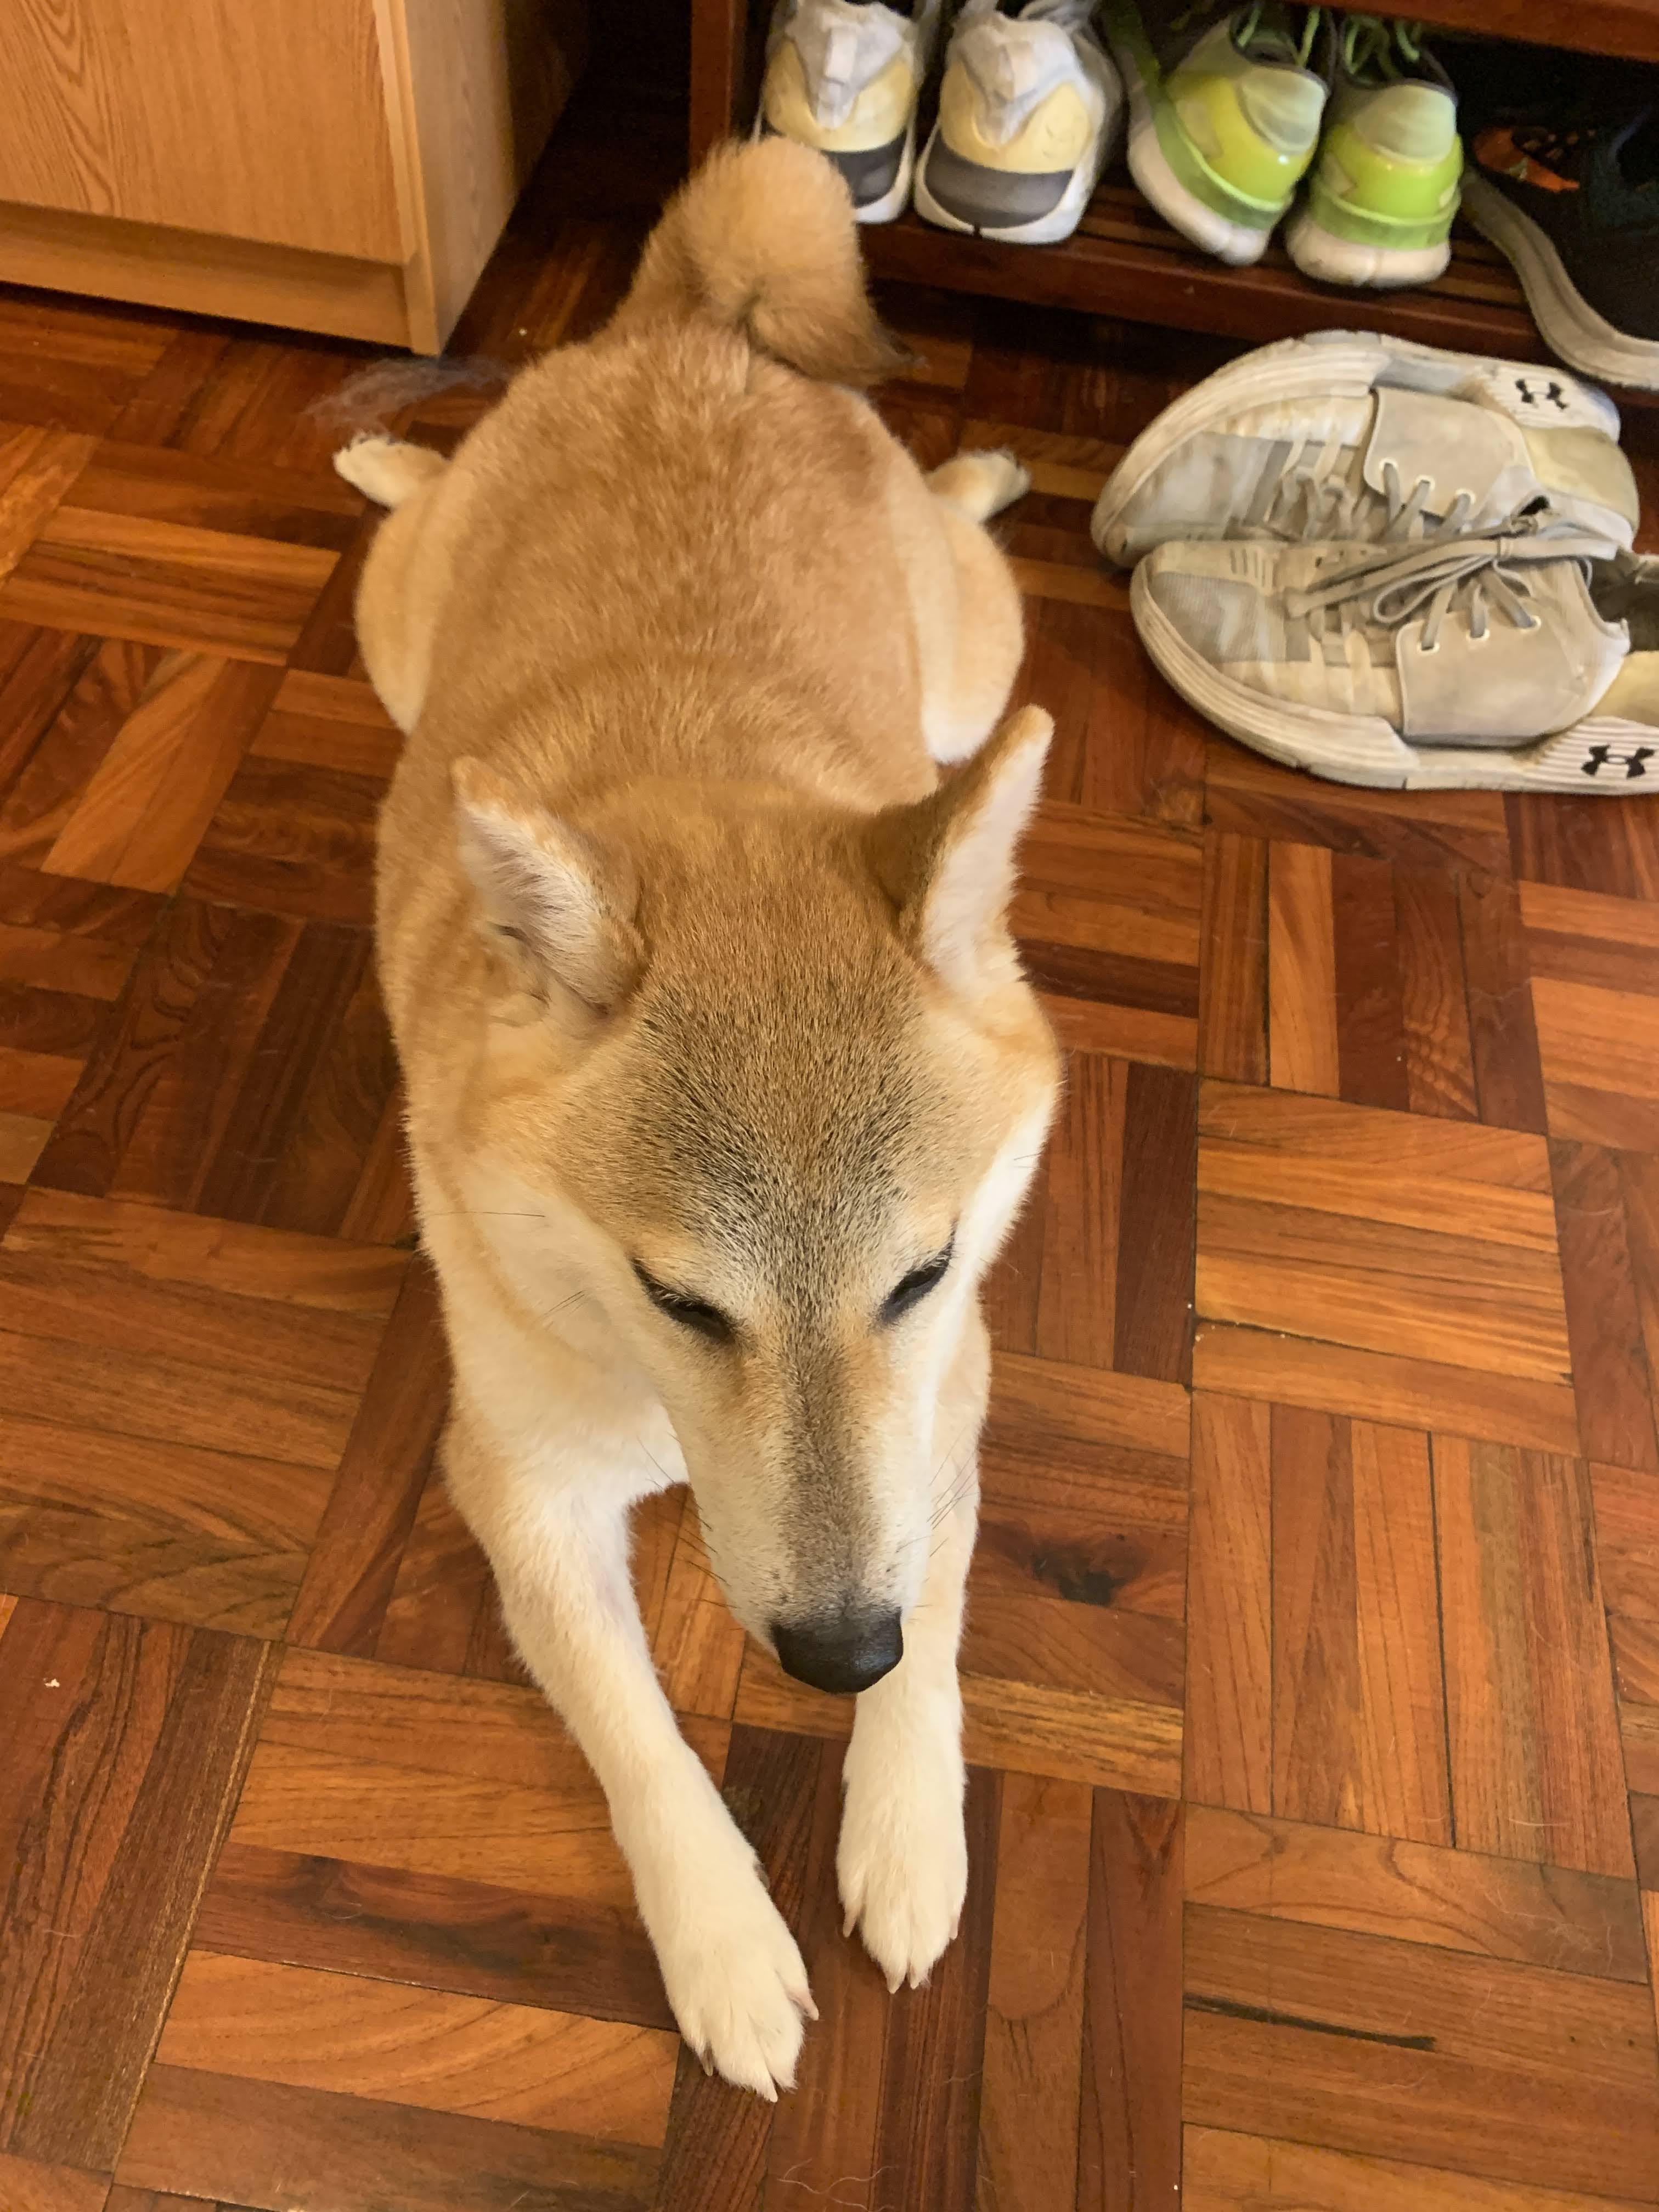Get down: (272, 106, 1220, 2127)
